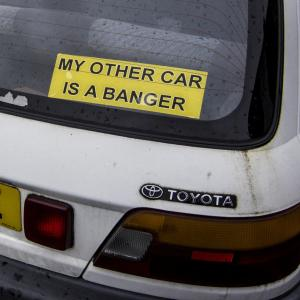Vehicle-registration-plate: (1, 183, 24, 231)
